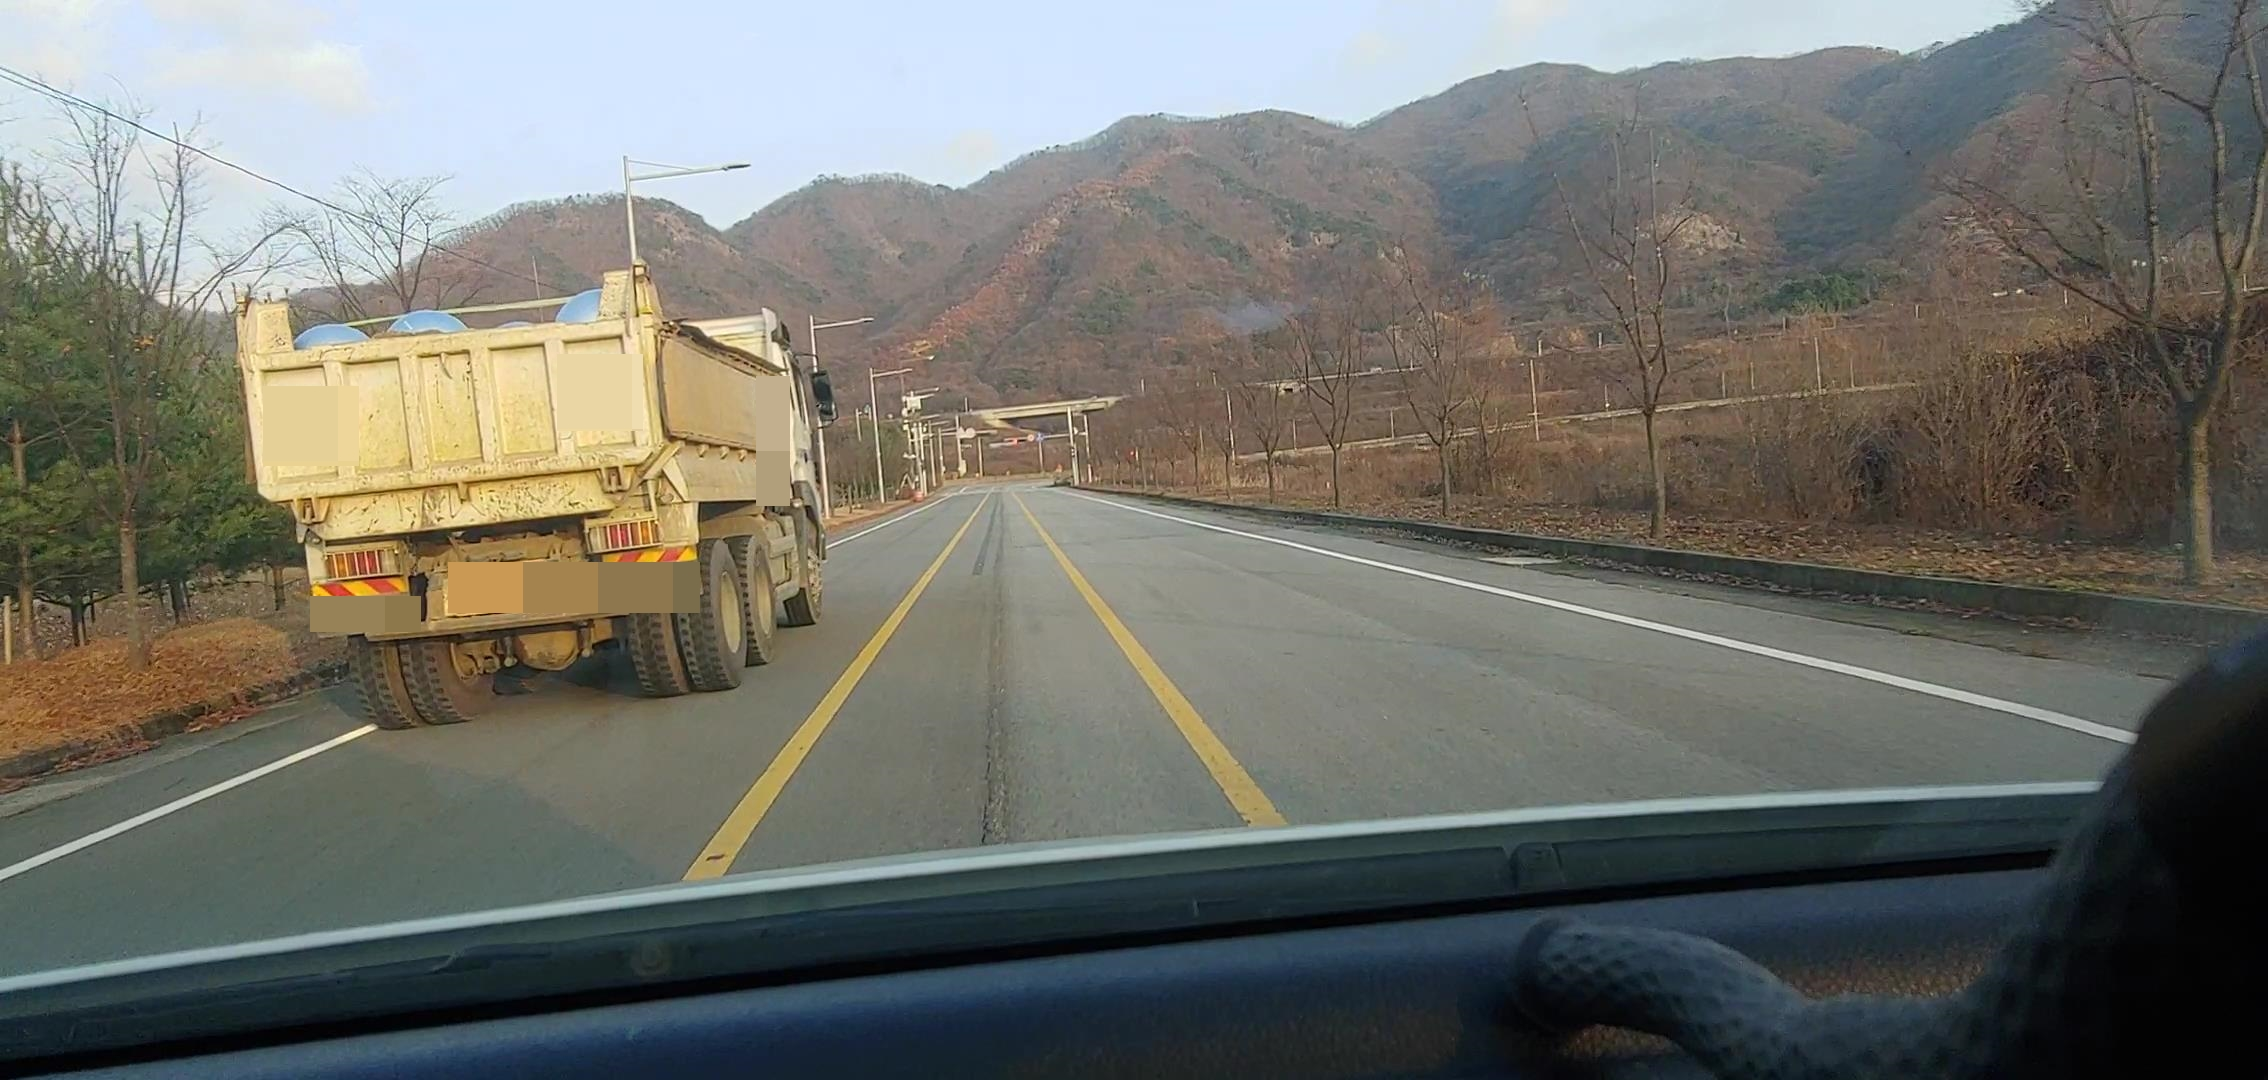불법차량: (236, 254, 839, 732)
